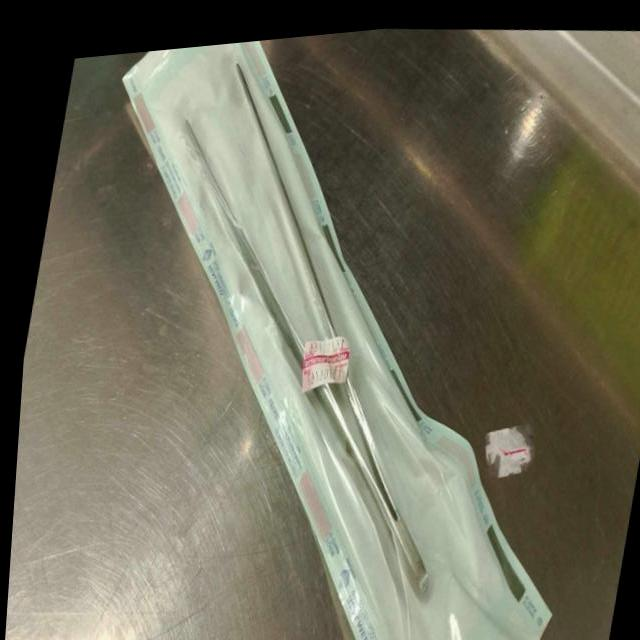Infectious: (120, 40, 554, 640)
Sharps: (182, 107, 431, 595)
